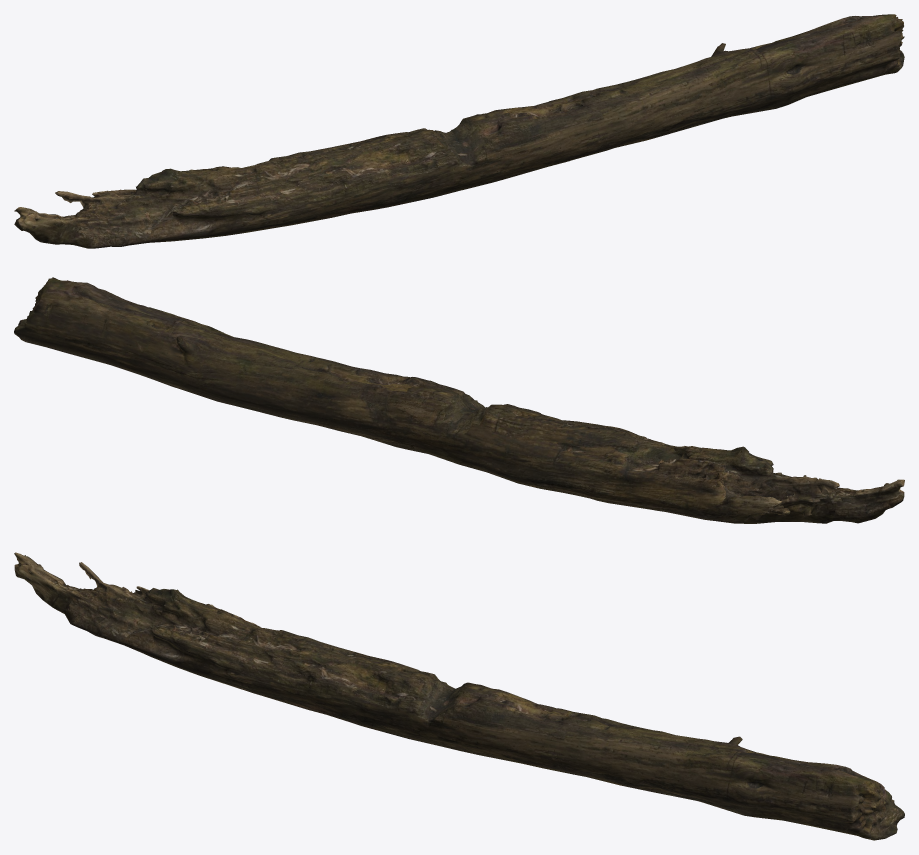
The model's file is dead_tree_trunk.glb.
3 views of the same model, one above another, from view 1: azimuth 30°, elevation 25°; view 2: azimuth 150°, elevation 25°; view 3: azimuth 330°, elevation 25° (orthographic).
Parts seen in each view (by area): view 1: dead_tree_trunk; view 2: dead_tree_trunk; view 3: dead_tree_trunk.
Boxes of the visible parts, x1,y1,x2,y2 form: dead_tree_trunk: (14,14,904,248); dead_tree_trunk: (14,277,904,523); dead_tree_trunk: (14,552,904,840).
Bounding box in the file's own units: 3.05 × 0.2905 × 0.2775.
Materials: 1 (1 with a texture image).
